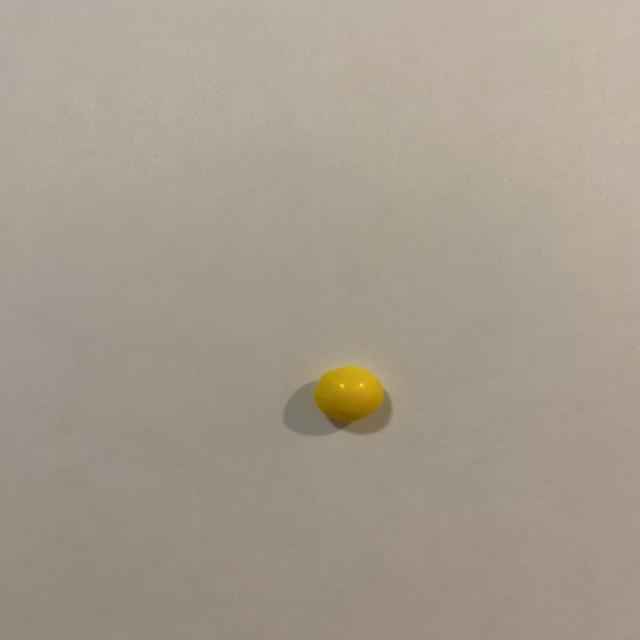smartie: (314, 367, 384, 423)
